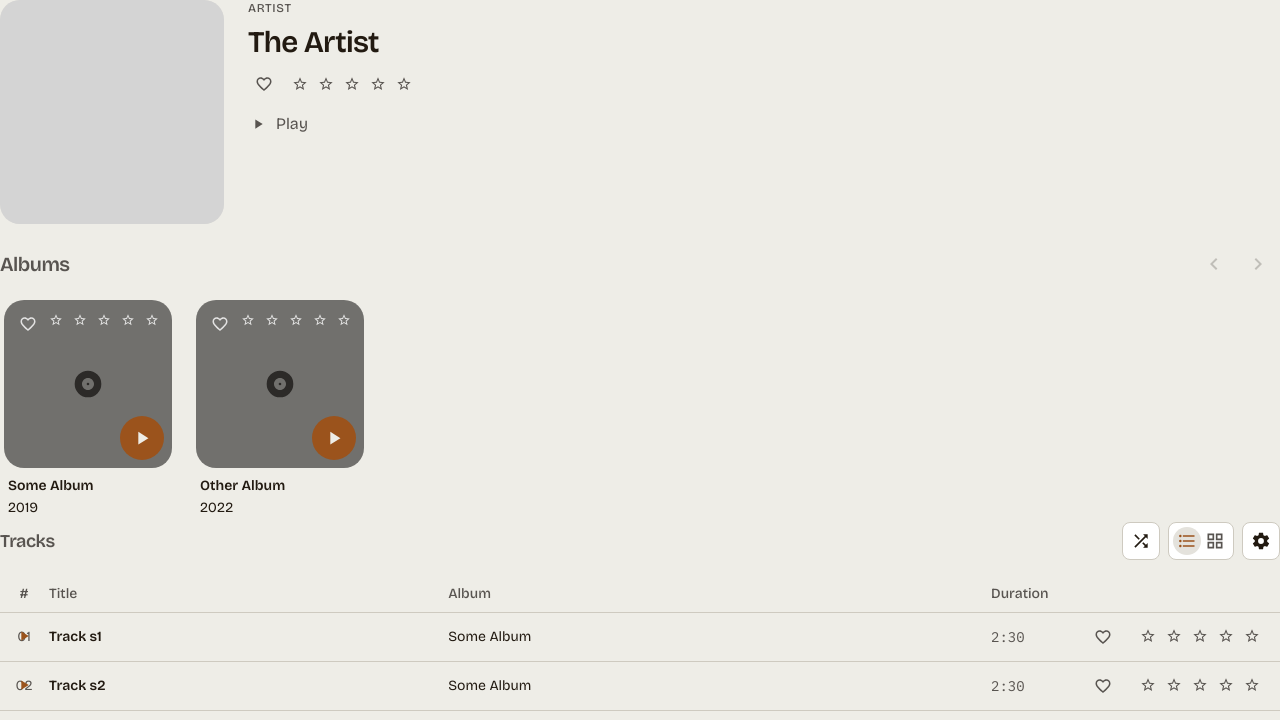
Test: Artist detail (react-query, embedded songs, P5) › opens the read-only artist editor from the header menu Edit item
Right-click the heading "The Artist" at (313, 42), box [248,24,379,60]
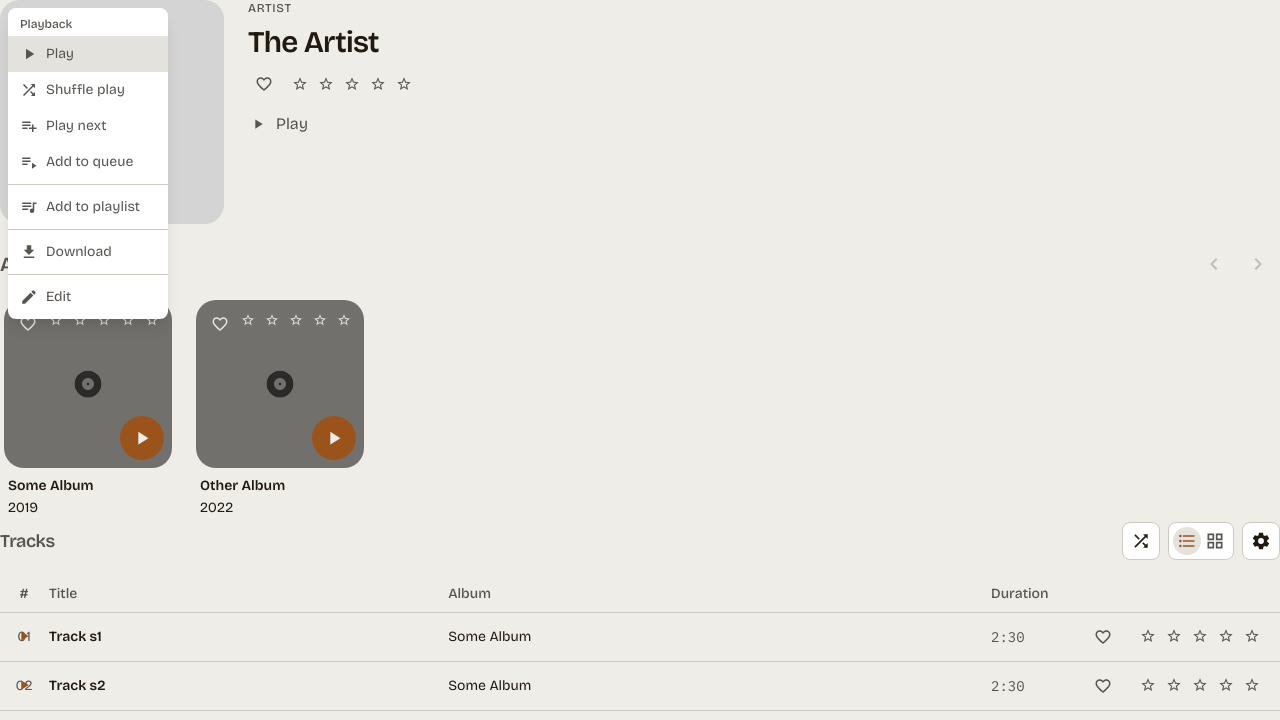
Click the menu item "Edit" at (88, 297), box [8,279,168,315]
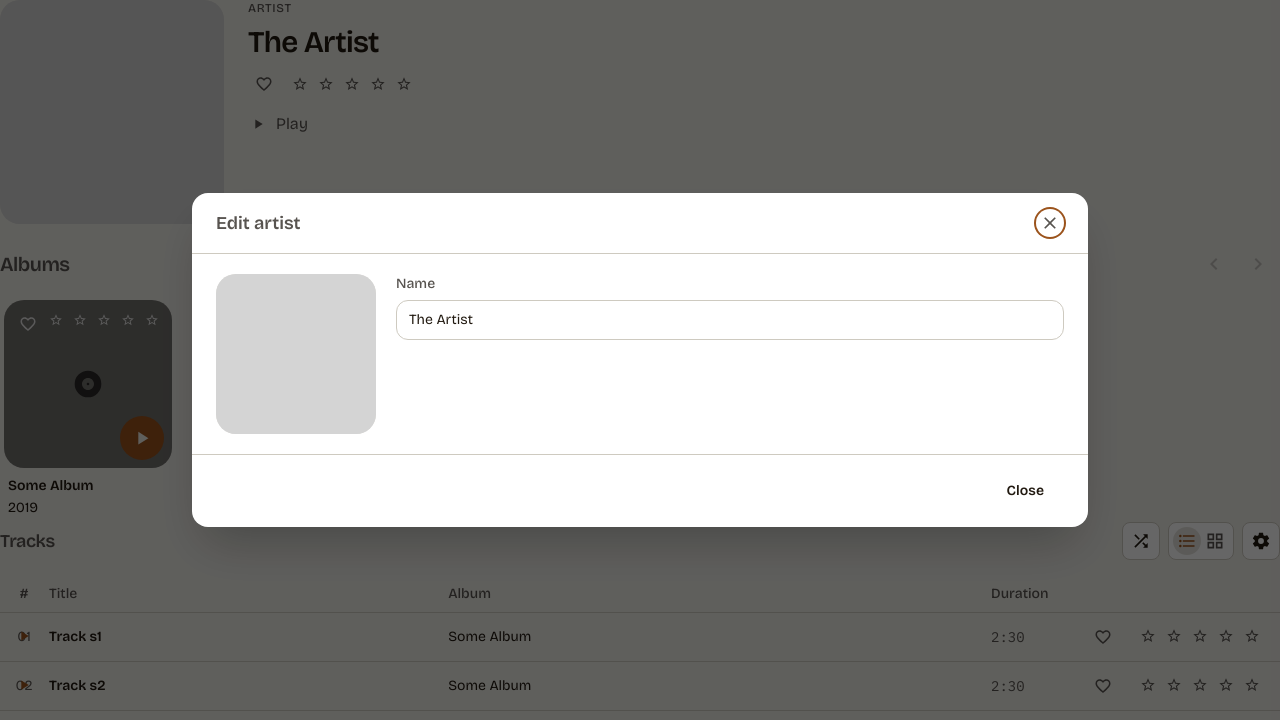
Expected: the dialog is shown
Expected: the heading "Edit artist" is shown, [216,209,301,237]
